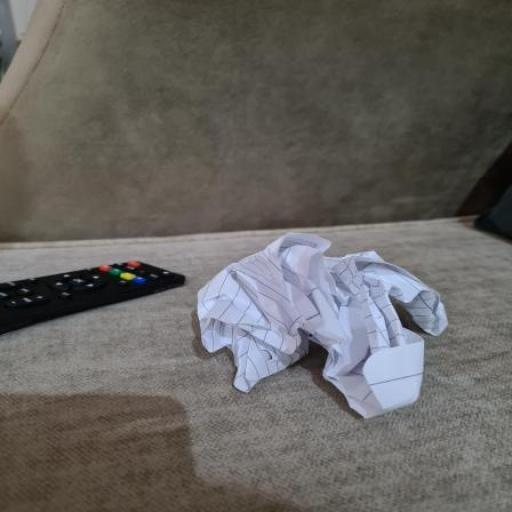paper: (204, 237, 442, 413)
